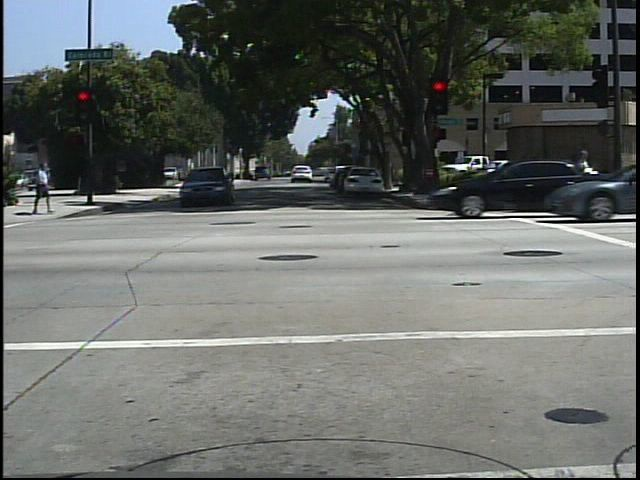person: (568, 143, 599, 209), (30, 157, 53, 219)
